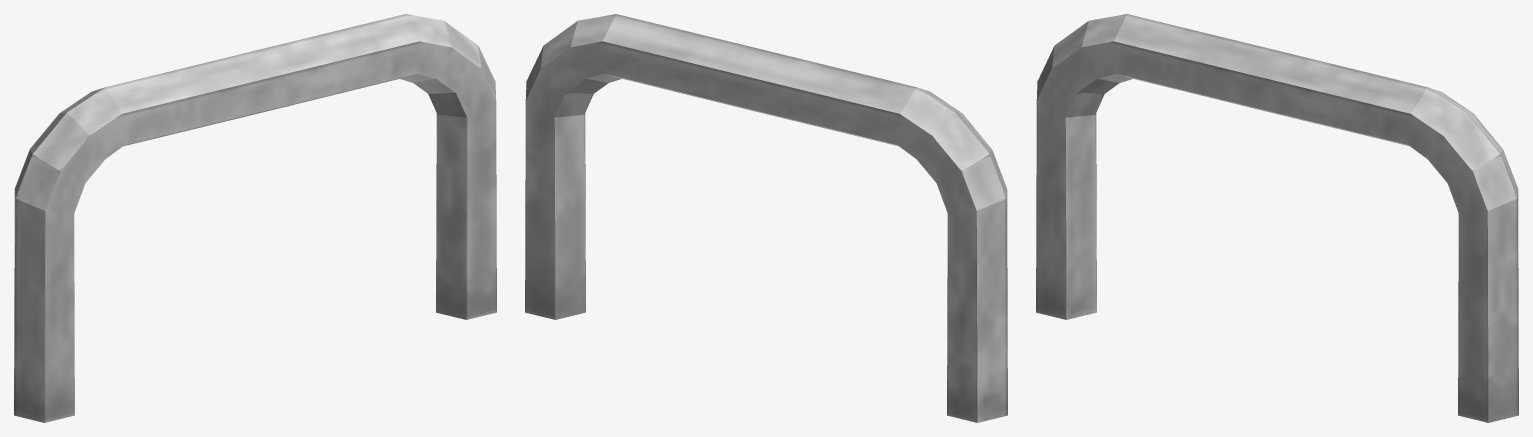
Rendered from BikeRack.fbx.
3 views of the same model, side by side, from view 1: azimuth 30°, elevation 25°; view 2: azimuth 150°, elevation 25°; view 3: azimuth 330°, elevation 25° (orthographic).
Parts seen in each view (by area): view 1: Bike Rack; view 2: Bike Rack; view 3: Bike Rack.
Boxes of the visible parts, x1,y1,x2,y2 form: Bike Rack: (14,14,496,422); Bike Rack: (525,14,1007,422); Bike Rack: (1036,14,1518,422).
Size of the model in its own units: 229 by 139 by 25.
Materials: 1 (1 with a texture image).
